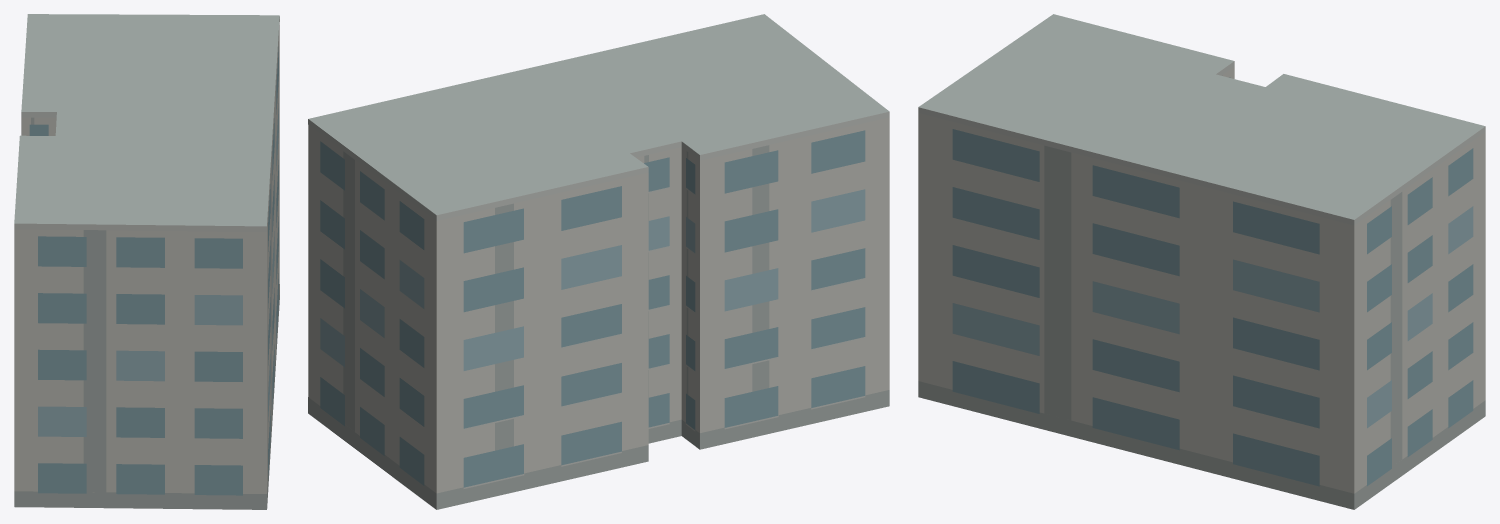
Rendered from survey-upis-32674575.glb.
The picture shows the model from 3 angles, left to right: view 1: azimuth 30°, elevation 25°; view 2: azimuth 150°, elevation 25°; view 3: azimuth 270°, elevation 25°; orthographic projection. The views are drawn at different scales.
Visible parts, largest first — view 1: survey-upis-32674575.tmp; view 2: survey-upis-32674575.tmp; view 3: survey-upis-32674575.tmp.
Part boxes in pixels (x1,y1,x2,y2): survey-upis-32674575.tmp: (14, 14, 279, 509); survey-upis-32674575.tmp: (308, 14, 889, 509); survey-upis-32674575.tmp: (918, 14, 1485, 509).
Size of the model in its own units: 18.59 by 12.2 by 21.65.
